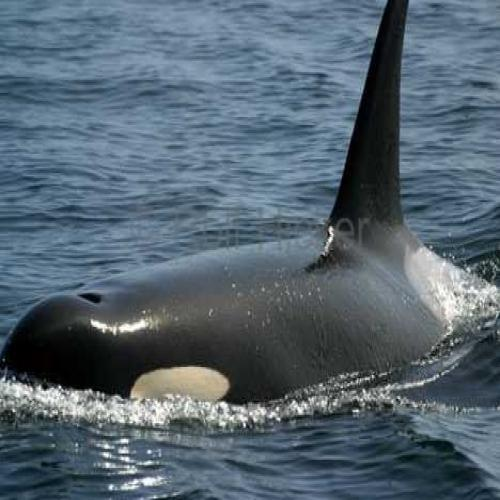killer_whale-endangered: (0, 100, 472, 422)
